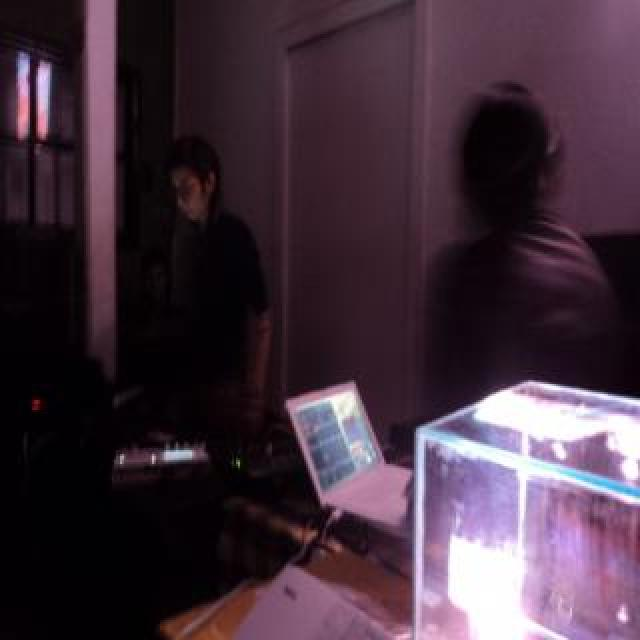laptop_computer: (290, 366, 415, 543)
